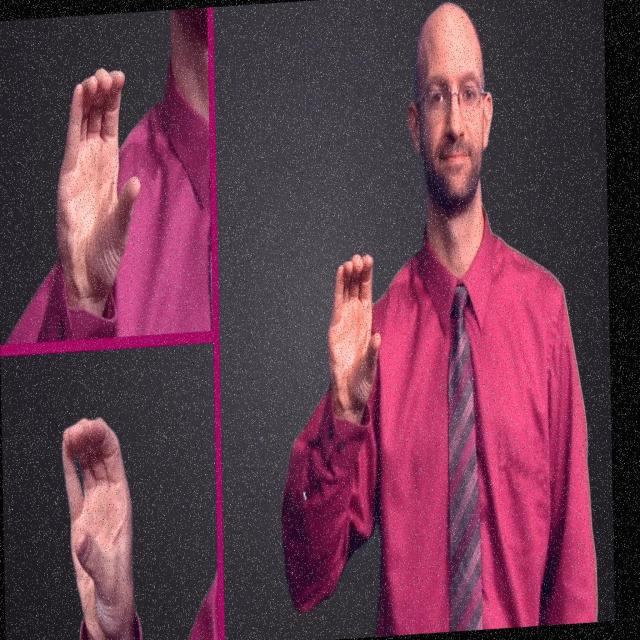C: (50, 58, 144, 304), (58, 408, 142, 640), (323, 249, 382, 415)
